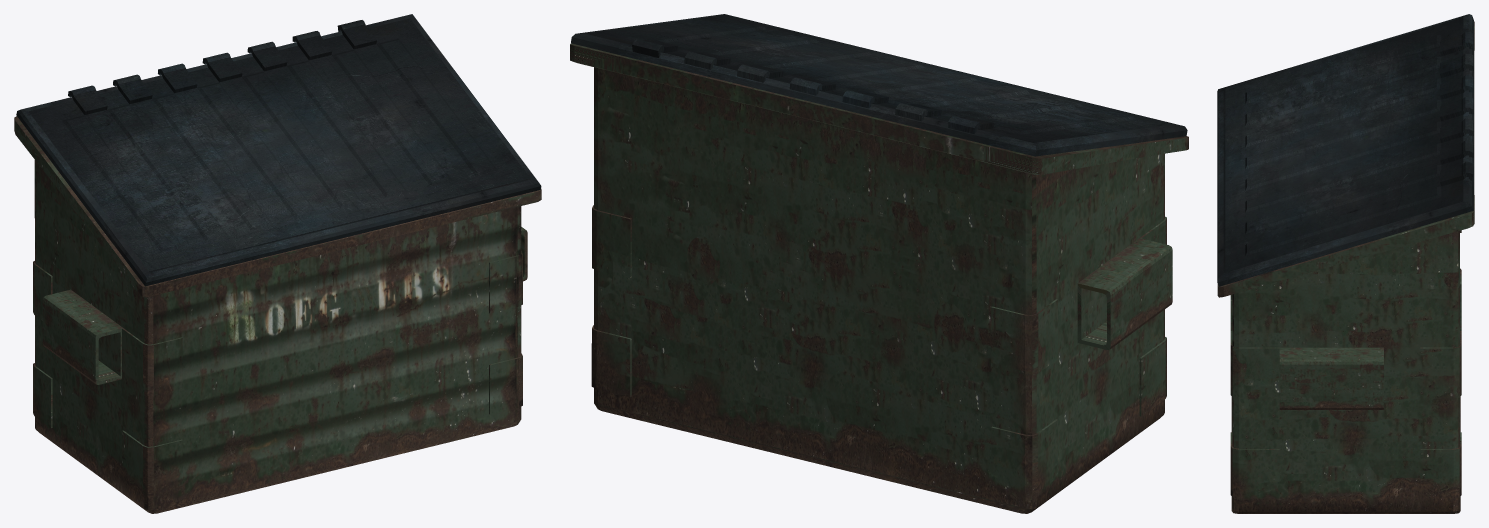
File: Bin_Large.FBX
3 views of the same model, side by side, from view 1: azimuth 30°, elevation 25°; view 2: azimuth 150°, elevation 25°; view 3: azimuth 270°, elevation 25° (orthographic). The views are drawn at different scales.
Parts seen in each view (by area): view 1: TrashBin_Large; view 2: TrashBin_Large; view 3: TrashBin_Large.
Boxes of the visible parts, x1,y1,x2,y2 form: TrashBin_Large: (14,14,541,513); TrashBin_Large: (570,14,1188,513); TrashBin_Large: (1217,14,1474,513).
Bounding box in the file's own units: 1.98 × 1.43 × 1.03.
